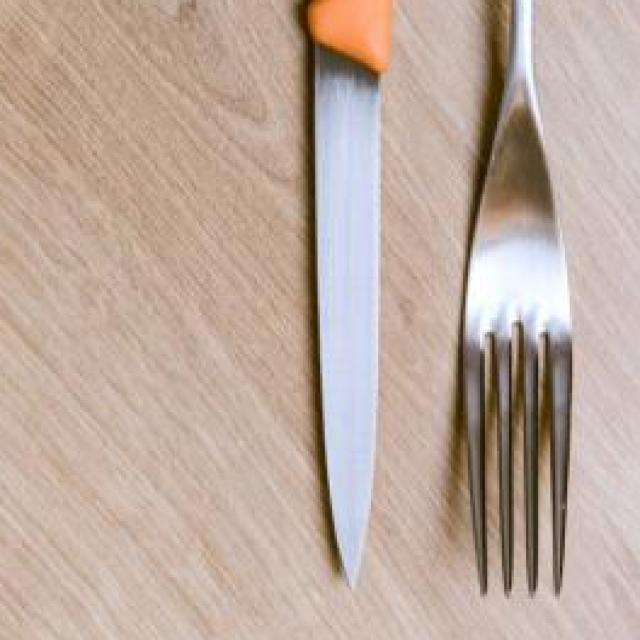knife: (298, 0, 395, 594)
